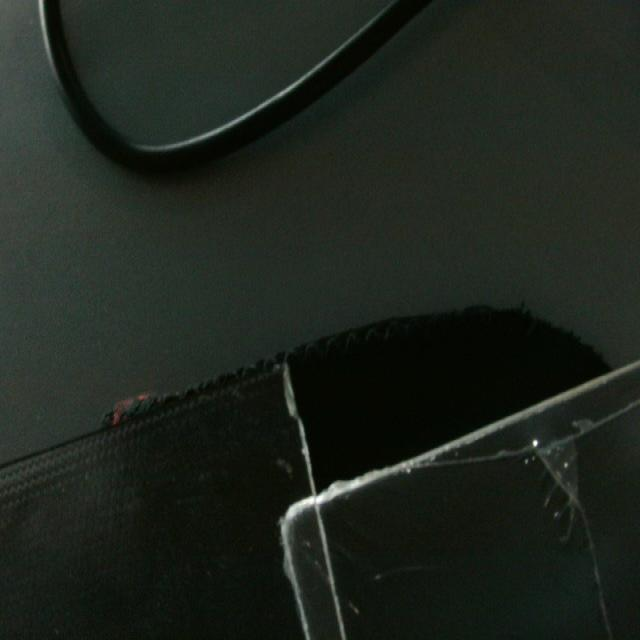edge_chip: (275, 358, 311, 447)
